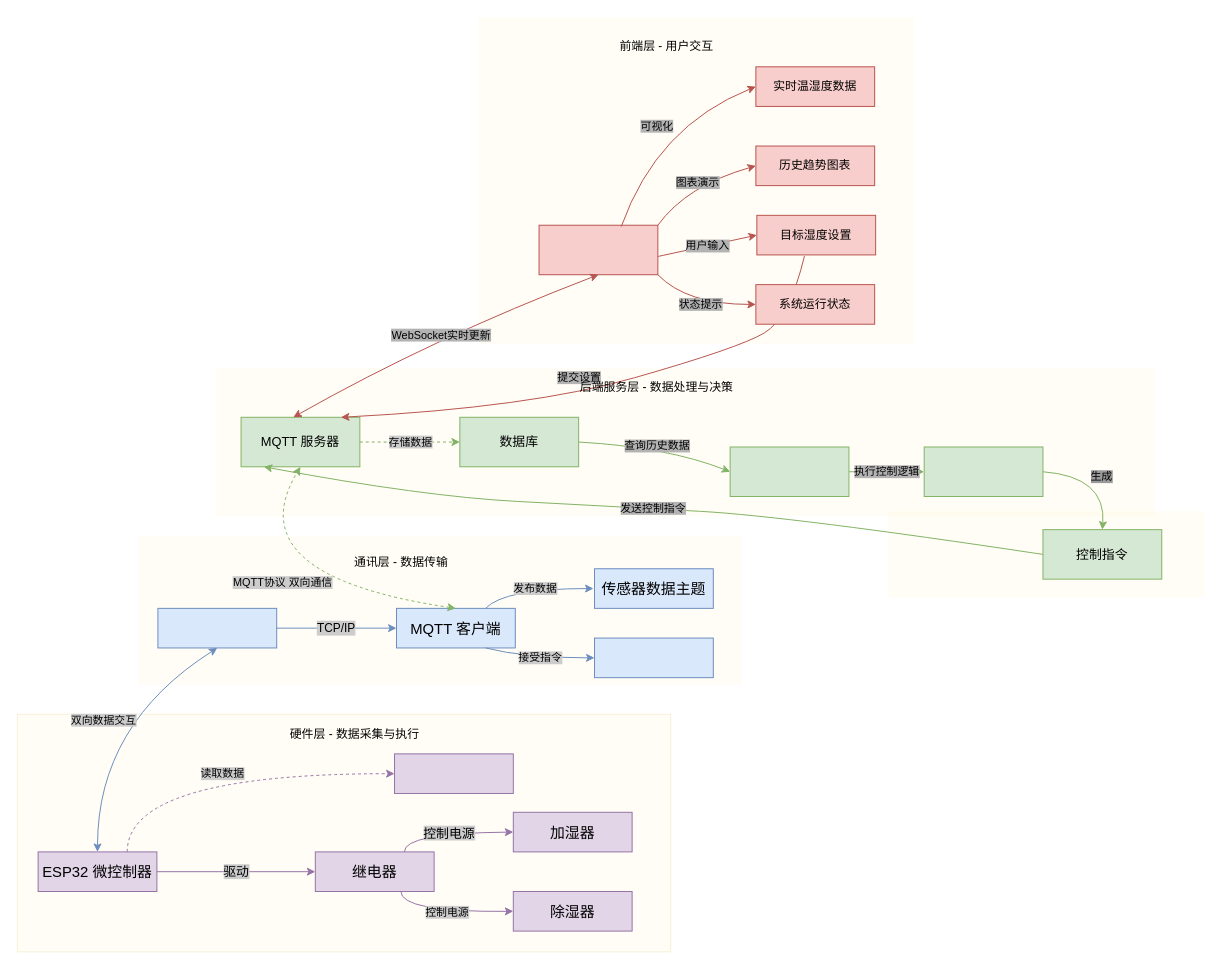
Image size: 1223x969. Some labels were removed from this diagram. Here are the shapes that lost their labels. From the top down, the centre of each, then its label:
(x=598, y=249): Web界面
(x=789, y=471): 数据处理服务
(x=983, y=471): 湿度控制算法
(x=217, y=627): WiFi
(x=653, y=657): 控制命令主题
(x=453, y=773): DHT22 温湿度传感器
